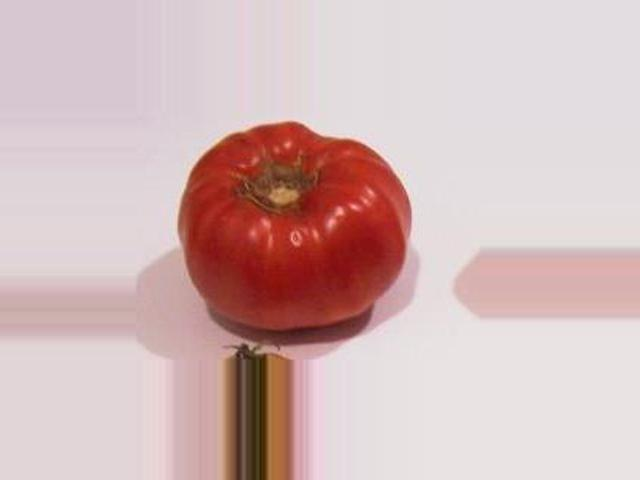tomato: (179, 123, 408, 327)
